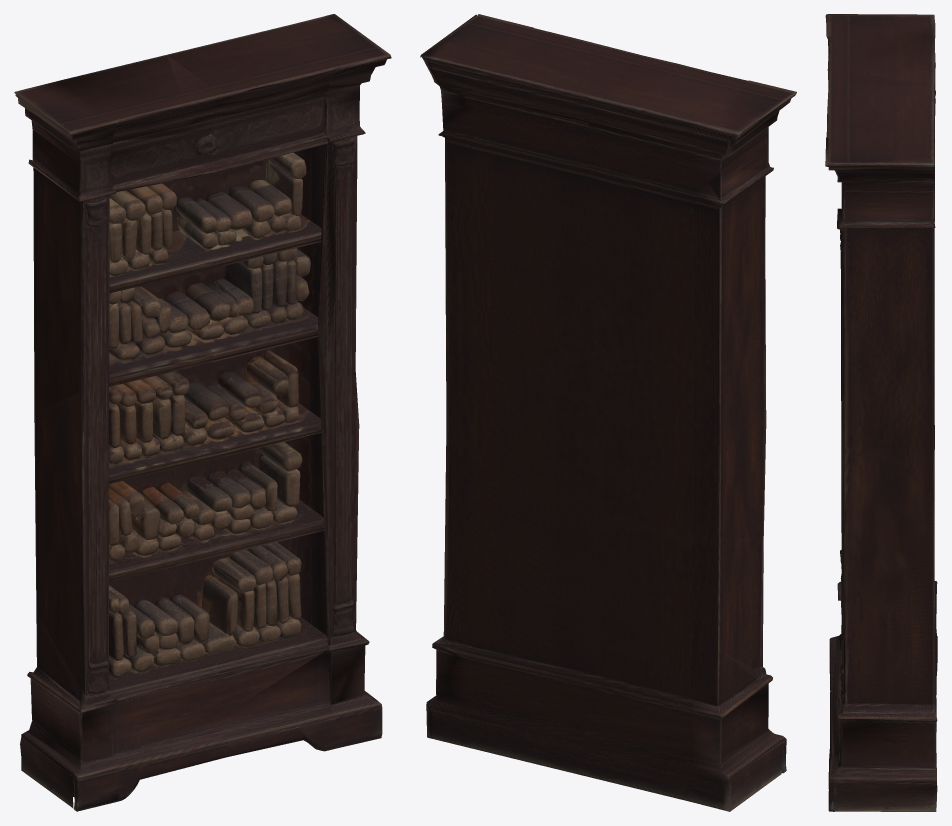
File: rrr_prop_bookcase_v1.glb
3 views of the same model, side by side, from view 1: azimuth 30°, elevation 25°; view 2: azimuth 150°, elevation 25°; view 3: azimuth 270°, elevation 25° (orthographic). The views are drawn at different scales.
Visible parts, largest first — view 1: Mesh_0; view 2: Mesh_0; view 3: Mesh_0.
Boxes of the visible parts, x1,y1,x2,y2 form: Mesh_0: [14, 14, 391, 811]; Mesh_0: [420, 14, 796, 811]; Mesh_0: [825, 14, 937, 811].
Bounding box in the file's own units: 0.8912 × 1.8 × 0.2812.
Materials: 1 (1 with a texture image).
